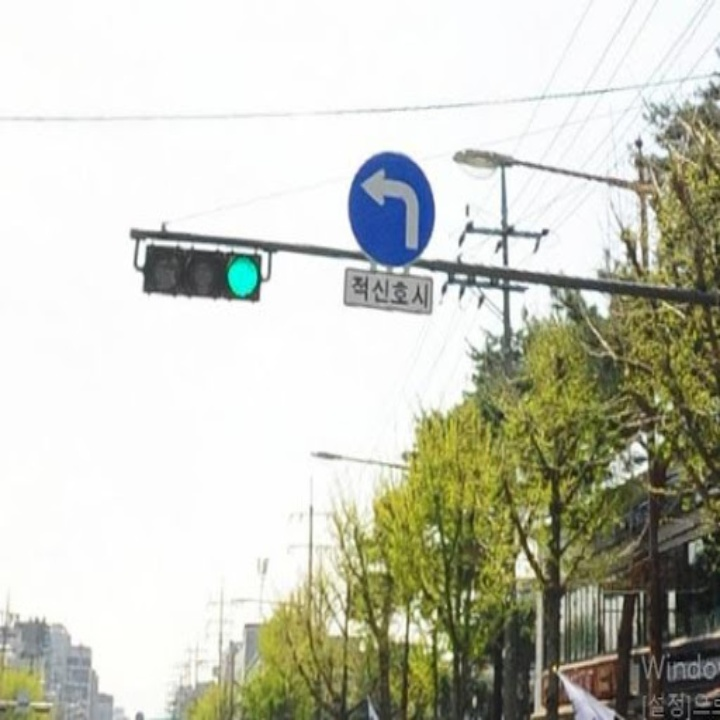left: (355, 160, 427, 254)
